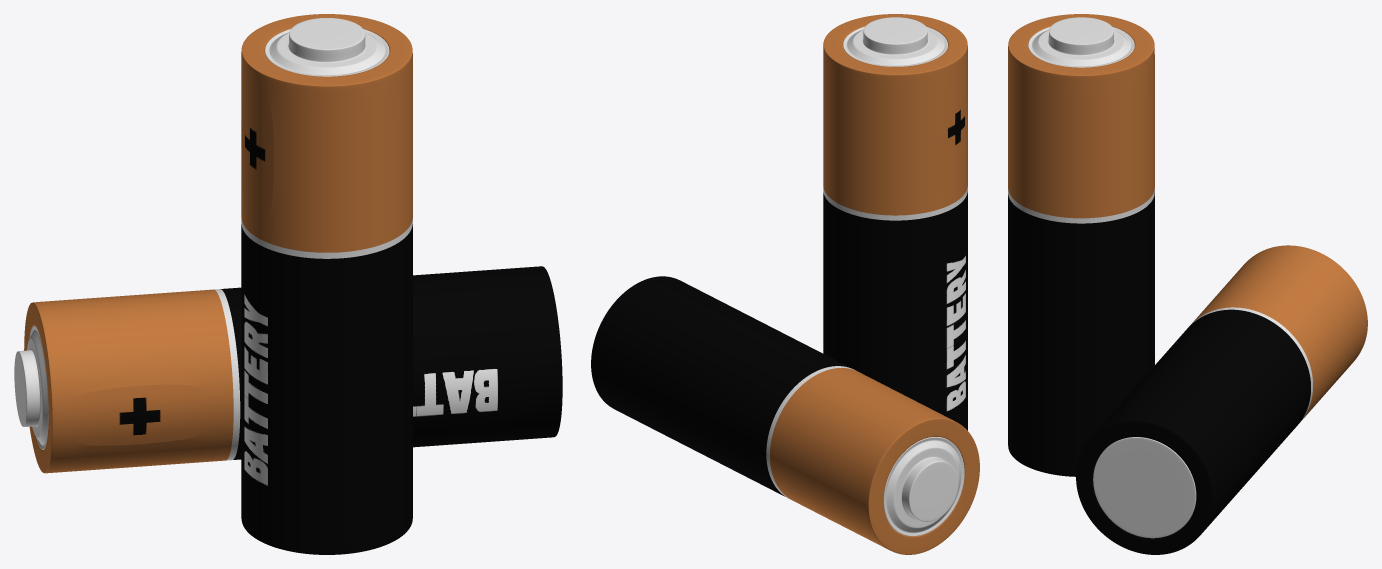
The model's file is Battery2.fbx.
3 views of the same model, side by side, from view 1: azimuth 30°, elevation 25°; view 2: azimuth 150°, elevation 25°; view 3: azimuth 270°, elevation 25° (orthographic). The views are drawn at different scales.
Visible parts, largest first — view 1: Cylinder.003, Cylinder.007, Cylinder.001, Cylinder.009; view 2: Cylinder.007, Cylinder.003, Cylinder.009, Cylinder.001; view 3: Cylinder.003, Cylinder.007, Cylinder.008, Cylinder.001.
Boxes of the visible parts, bbox=[...] form: Cylinder.003: bbox=[241, 14, 412, 554]; Cylinder.007: bbox=[24, 266, 562, 473]; Cylinder.001: bbox=[265, 18, 389, 76]; Cylinder.009: bbox=[14, 325, 48, 449]; Cylinder.007: bbox=[591, 276, 979, 554]; Cylinder.003: bbox=[823, 14, 967, 430]; Cylinder.009: bbox=[883, 437, 964, 536]; Cylinder.001: bbox=[843, 17, 947, 66]; Cylinder.003: bbox=[1008, 14, 1154, 476]; Cylinder.007: bbox=[1076, 245, 1367, 554]; Cylinder.008: bbox=[1093, 437, 1196, 538]; Cylinder.001: bbox=[1028, 17, 1134, 67].
Size of the model in its own units: 631 by 621 by 487.
Materials: 12 (4 with a texture image).
